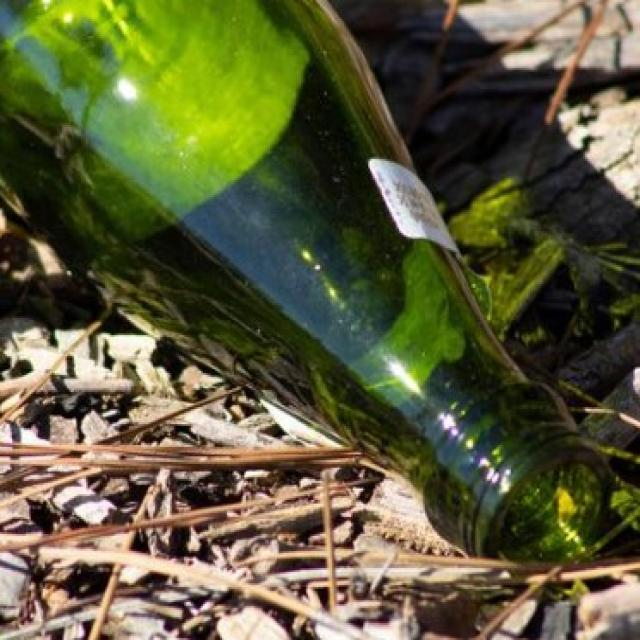electronic: (0, 0, 616, 568)
